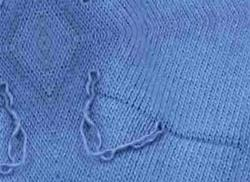snag: (125, 118, 171, 147)
